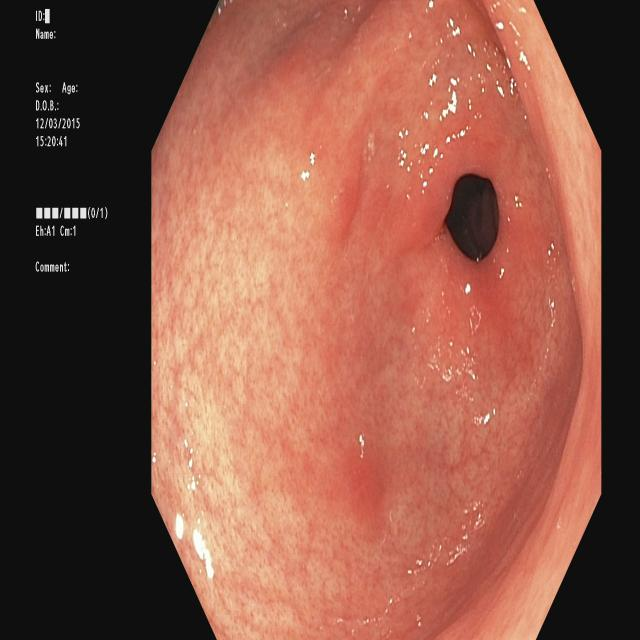normal-pylorus: (299, 0, 527, 268), (451, 191, 557, 394), (322, 428, 396, 552)
